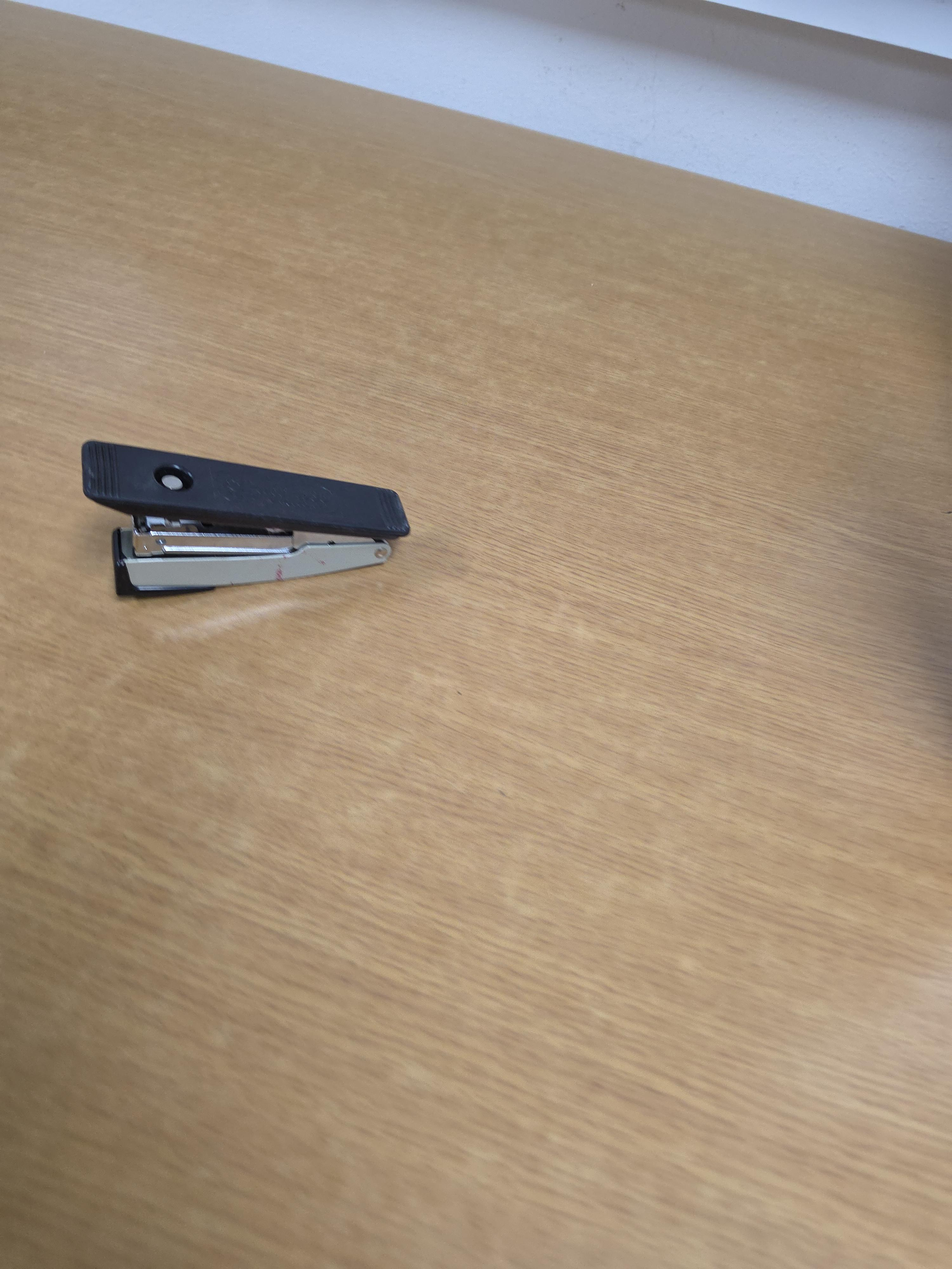stapler: (81, 441, 412, 599)
